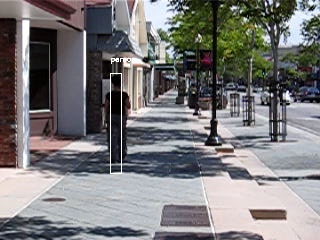person: (104, 74, 131, 165), (103, 74, 130, 165), (105, 74, 132, 165), (104, 73, 131, 164), (104, 75, 131, 166)
target_negative: (5, 38, 267, 201), (22, 27, 242, 196), (43, 74, 236, 162), (31, 60, 154, 101), (96, 198, 123, 211), (318, 19, 319, 181)
